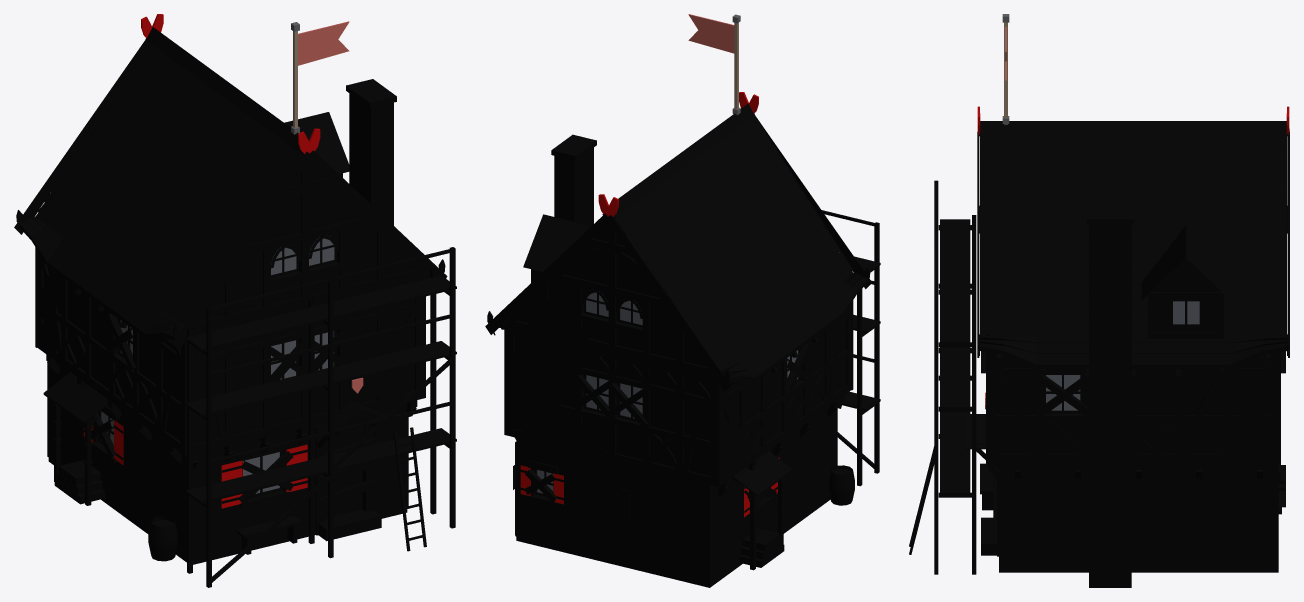
File: wohnhaus_elb_s2_g4.glb
3 renders of one model, left to right at view 1: azimuth 30°, elevation 25°; view 2: azimuth 150°, elevation 25°; view 3: azimuth 270°, elevation 25°, orthographic. The views are drawn at different scales.
Visible parts, largest first — view 1: Haus, Dach, Geruest, Leerstand, Scheiben, Fahne; view 2: Haus, Dach, Geruest, Leerstand, Fahne, Scheiben; view 3: Haus, Dach, Geruest, Leerstand, Scheiben, Fahne.
Part boxes in pixels (x1,y1,x2,y2): Haus: (35, 44, 425, 564); Dach: (14, 14, 447, 349); Geruest: (185, 247, 456, 587); Leerstand: (91, 314, 374, 506); Scheiben: (101, 237, 334, 493); Fahne: (291, 21, 349, 134); Haus: (504, 119, 854, 587); Dach: (485, 92, 872, 391); Geruest: (821, 210, 880, 486); Leerstand: (524, 342, 811, 509); Fahne: (688, 14, 740, 115); Scheiben: (537, 291, 798, 493); Haus: (965, 137, 1281, 587); Dach: (977, 106, 1289, 376); Geruest: (909, 180, 976, 574); Leerstand: (981, 351, 1285, 520); Scheiben: (1046, 301, 1199, 410); Fahne: (1002, 14, 1009, 124).
Size of the model in its own units: 6.73 by 11.75 by 8.03.
